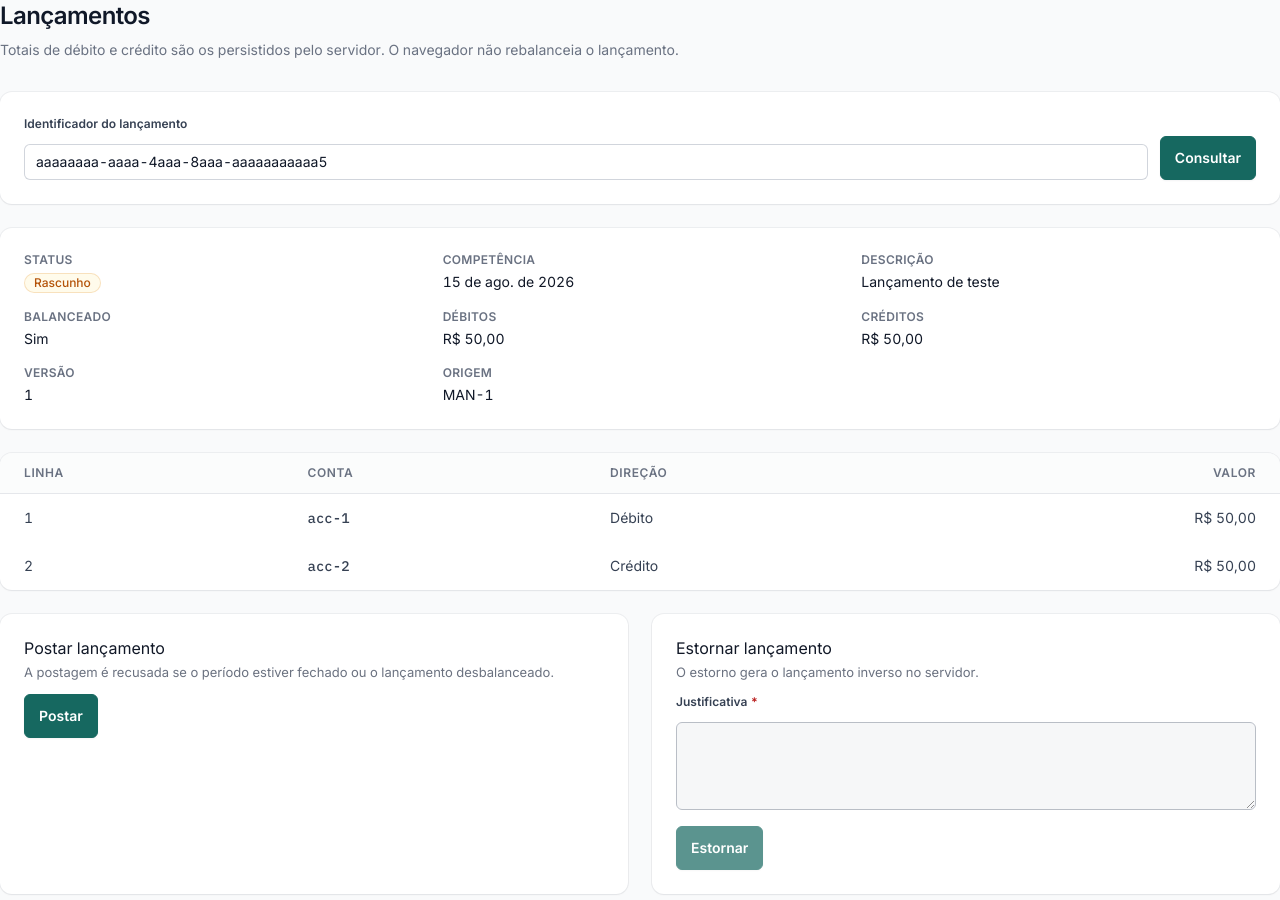
Scenario: Accounting backoffice UI › does not mark a journal posted when the period is closed
The image size is (1280, 900).
Click the button "Postar".
click(61, 716)  # box [24,694,98,738]
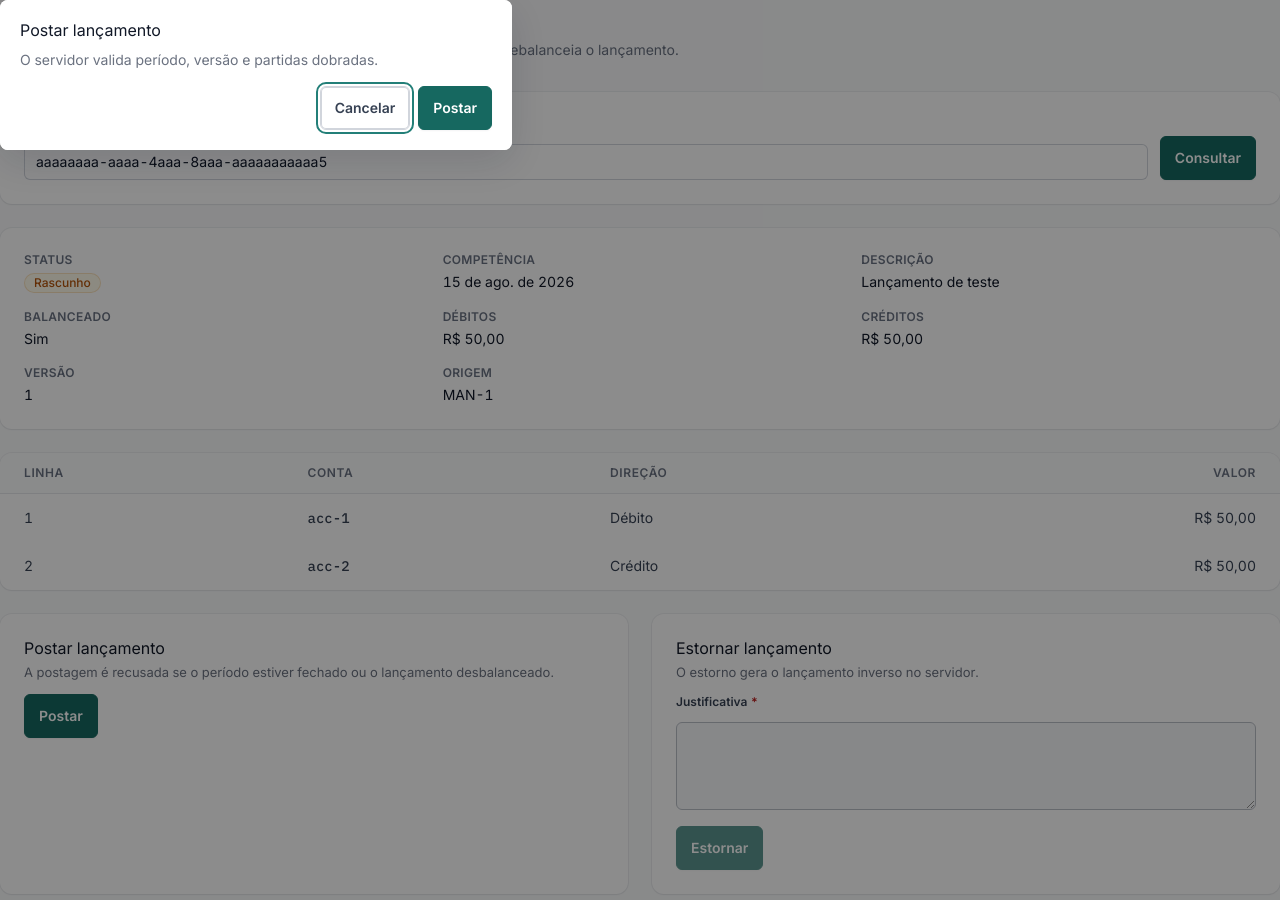
Click the button "Postar".
click(455, 108)  # box [418,86,492,130]
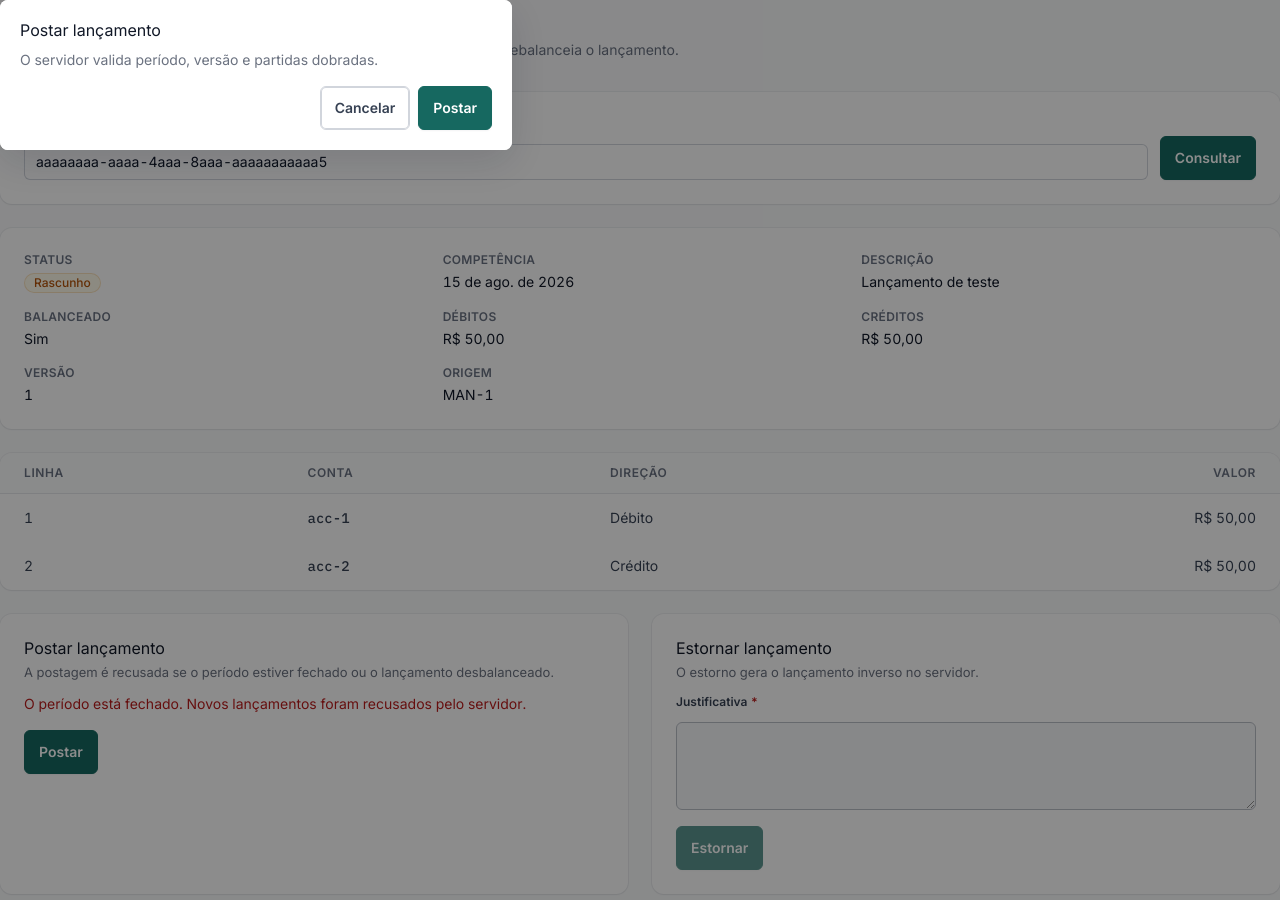
Expected: the text "O período está fechado. Novos lançamentos foram recusados pelo servidor." is shown, [24,694,604,714]
